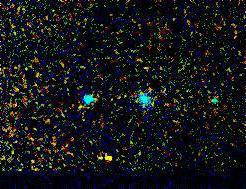star: (89, 143, 119, 173)
